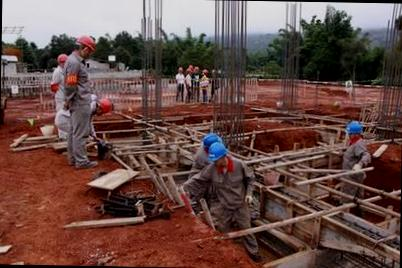person: (181, 151, 262, 258), (66, 36, 96, 169), (53, 95, 112, 158), (334, 120, 370, 216), (185, 134, 219, 188), (50, 54, 70, 124), (172, 66, 184, 105), (192, 65, 202, 105), (184, 67, 194, 104), (200, 69, 210, 104)
